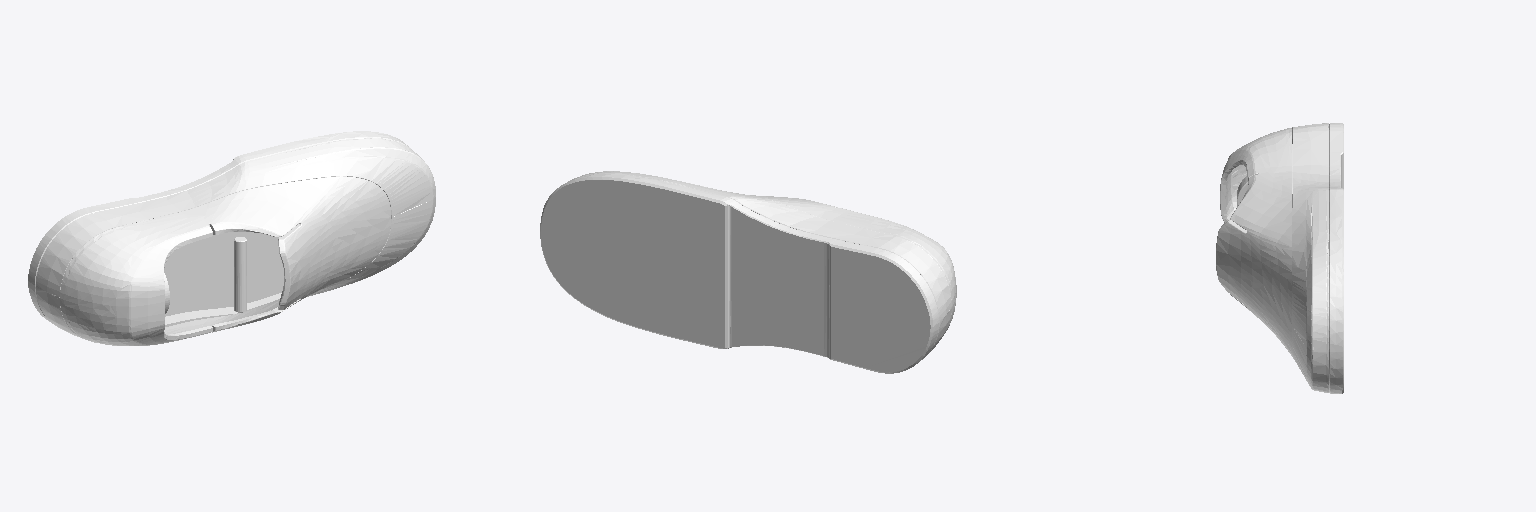
Rendered from right_ankle_roll_link_visuals.obj.
The picture shows the model from 3 angles: view 1: azimuth 30°, elevation 25°; view 2: azimuth 150°, elevation 25°; view 3: azimuth 270°, elevation 25°; orthographic projection.
Bounding box in the file's own units: 0.2082 × 0.0756 × 0.059.